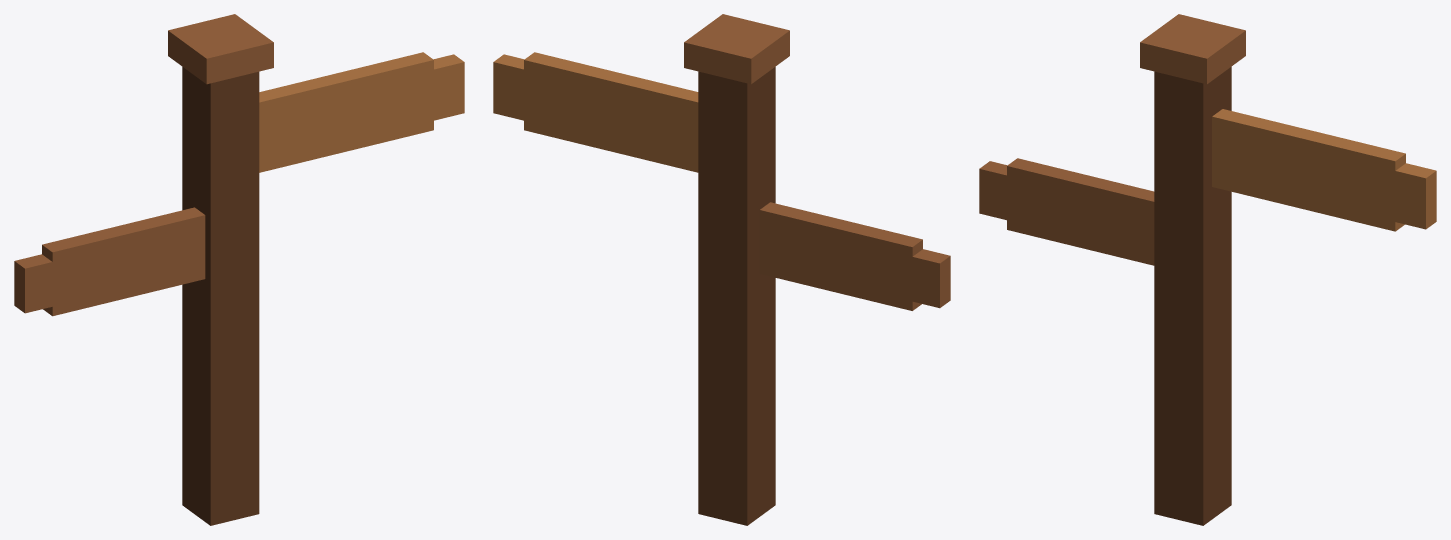
File: Signpost.glb
3 views of the same model, side by side, from view 1: azimuth 30°, elevation 25°; view 2: azimuth 150°, elevation 25°; view 3: azimuth 330°, elevation 25° (orthographic).
Visible parts, largest first — view 1: Signpost; view 2: Signpost; view 3: Signpost.
Boxes of the visible parts, x1,y1,x2,y2 form: Signpost: (14, 14, 464, 525); Signpost: (493, 14, 950, 525); Signpost: (979, 14, 1436, 525).
Bounding box in the file's own units: 7.25 × 7.4 × 1.1.
1 material, 1 textured.
